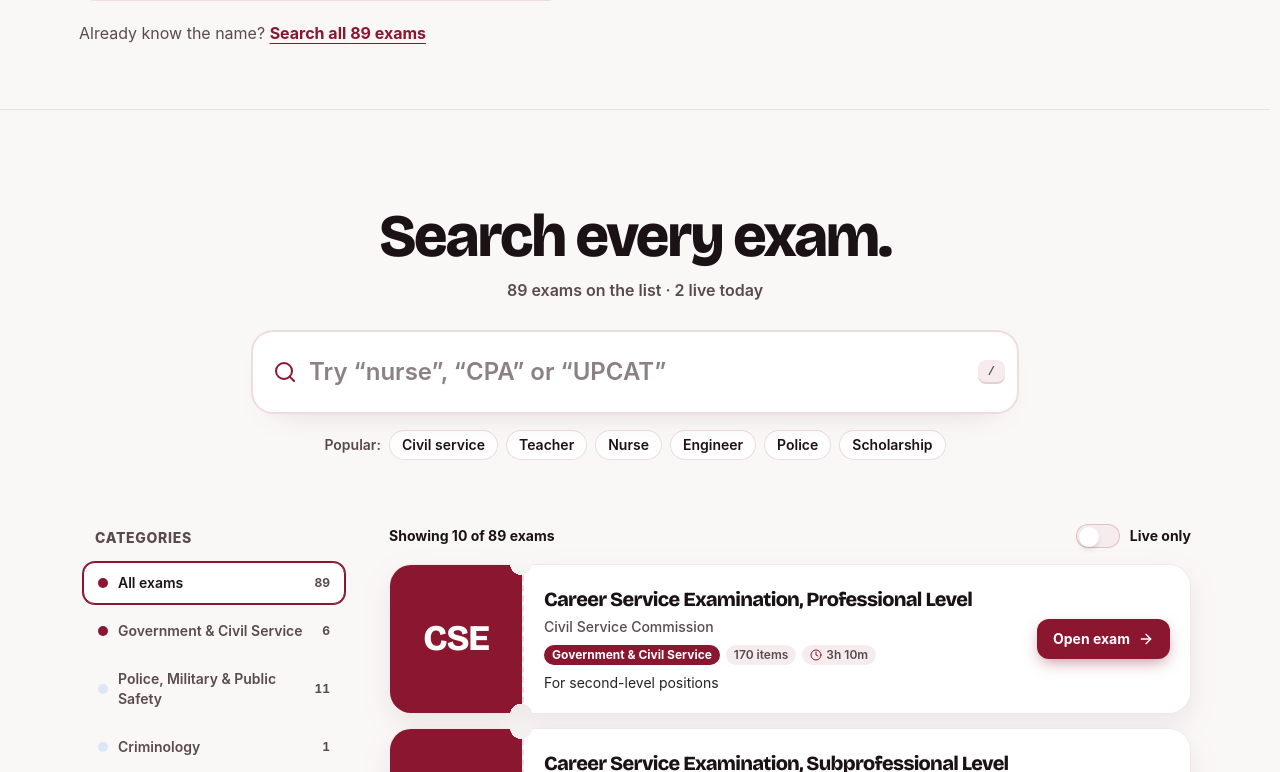
Test case: ExamsPageView Component (reviewtayo-exams-v2) › displays empty state with oops mascot when no exams match query
The image size is (1280, 772).
(page scrolled)
Type "nonexistentxyzexam" into the field named "Search exams".
click(637, 372); type("nonexistentxyzexam")  # box x1=309 y1=344 x2=966 y2=400
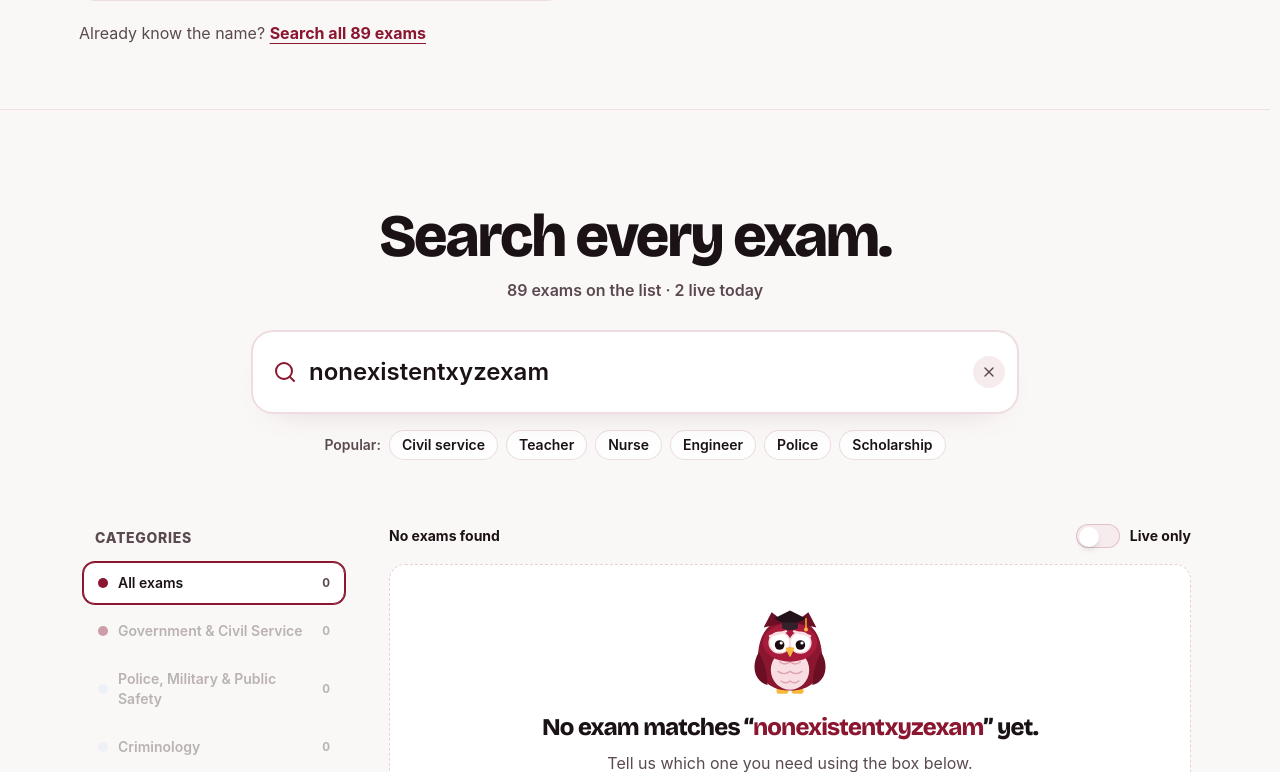
expect the heading "No exam matches “nonexistentxyzexam” yet." is shown: met, box x1=542 y1=713 x2=1038 y2=741
expect the picture named "ReviewTayo Mascot Oops" is shown: met, box x1=750 y1=605 x2=830 y2=699
